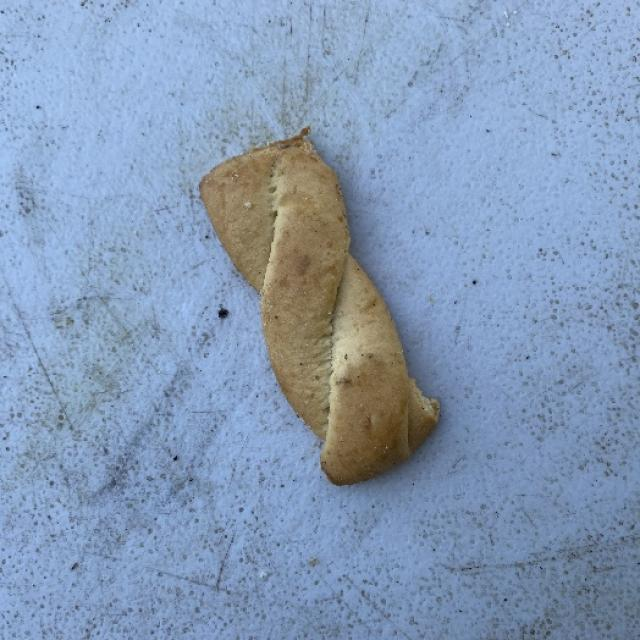organic: (258, 148, 351, 454), (322, 252, 436, 488), (193, 134, 352, 296)
